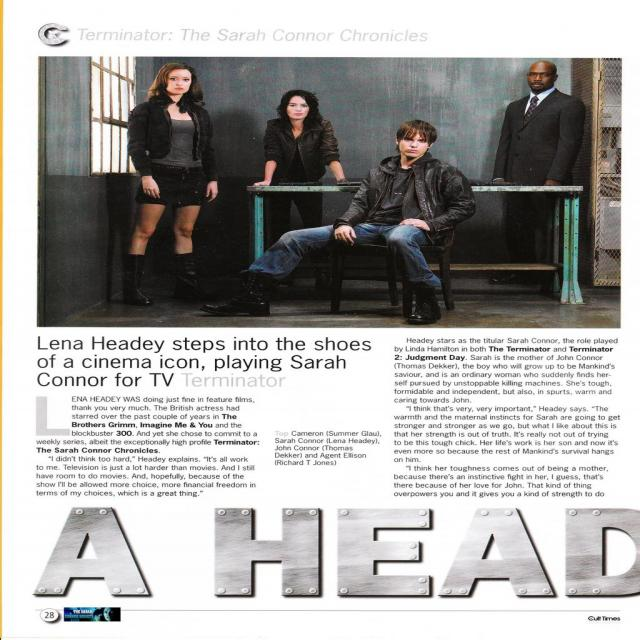nomask: (399, 132, 427, 158), (527, 63, 553, 91), (166, 69, 190, 94), (286, 97, 309, 119)
